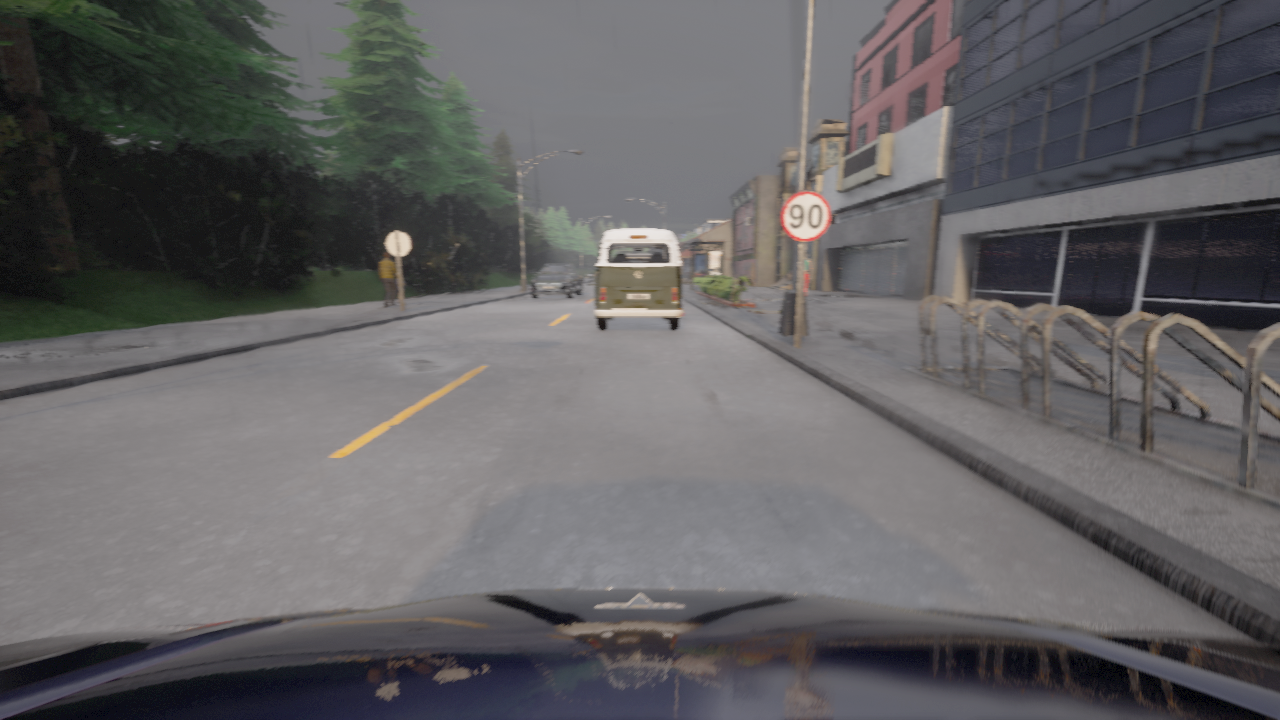cyclist: (0, 588, 1279, 719), (594, 229, 683, 330), (529, 264, 581, 298)
pedestrian: (378, 252, 398, 306), (803, 251, 812, 296), (395, 279, 405, 305)
